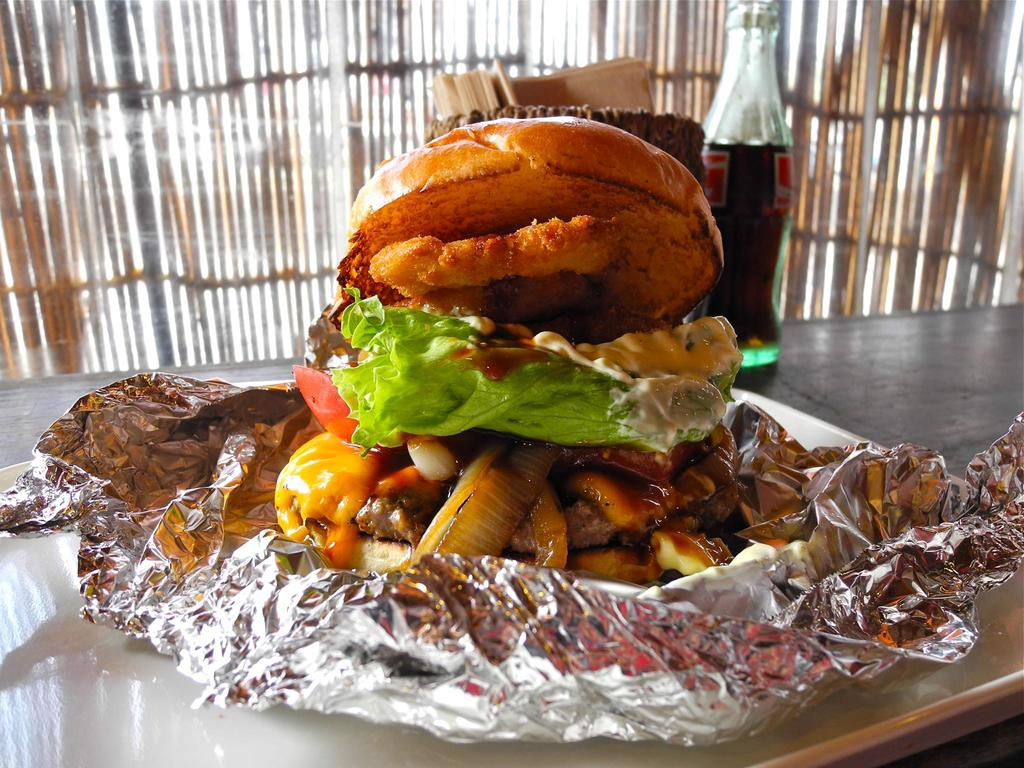Hamburger: (271, 104, 803, 569)
